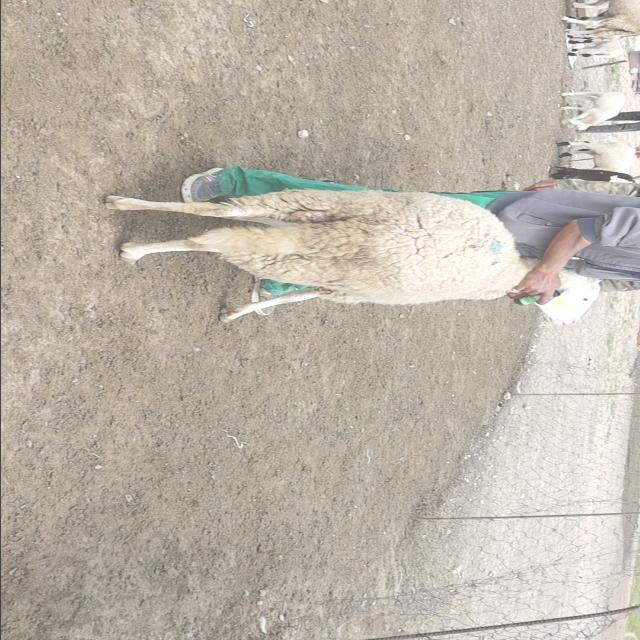Score_5: (105, 190, 533, 322)
